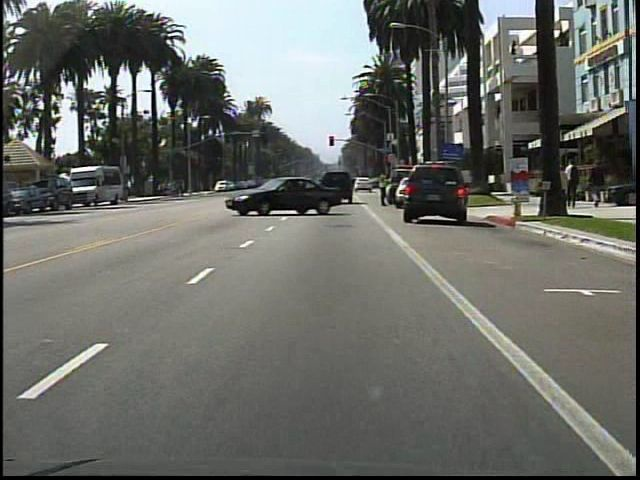person: (587, 155, 609, 209), (564, 159, 583, 212), (377, 171, 393, 211), (556, 163, 567, 211)
